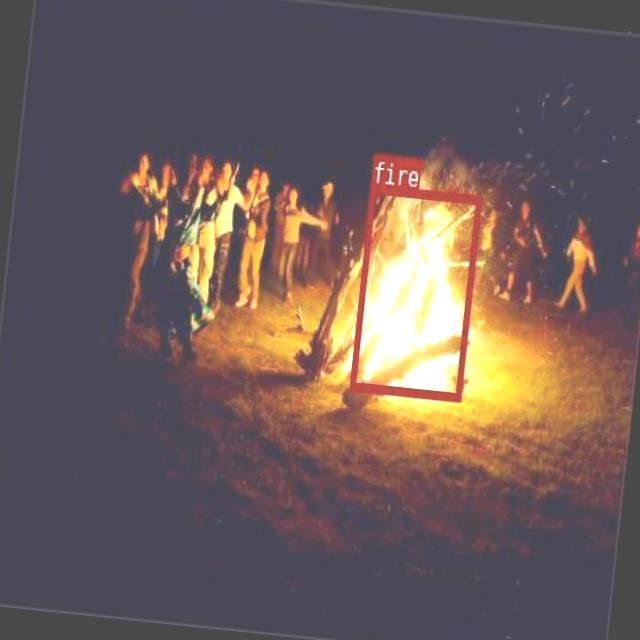fire: (348, 182, 480, 400)
